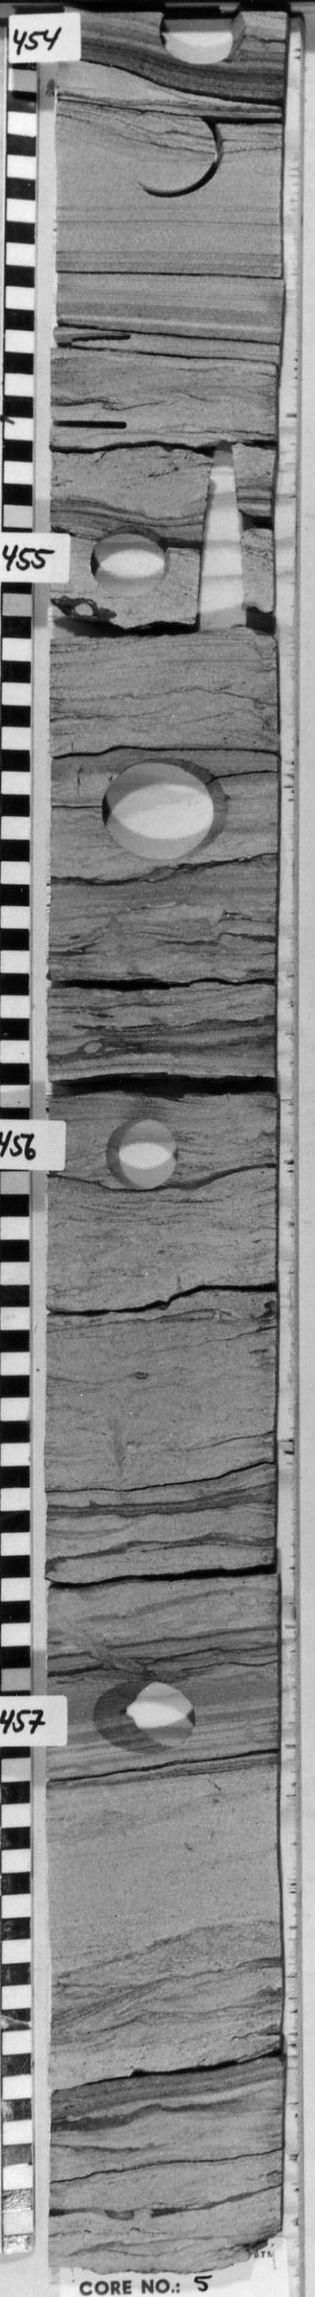hplug: (88, 1674, 205, 1762), (133, 108, 230, 204), (84, 523, 185, 604), (98, 1112, 185, 1192), (154, 13, 256, 70)
scal: (94, 754, 233, 864)
vplug: (188, 442, 253, 640)
